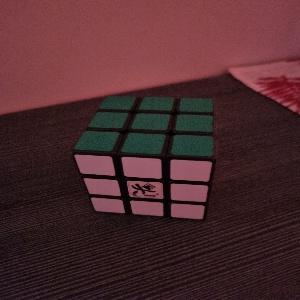cube: (72, 94, 214, 222)
